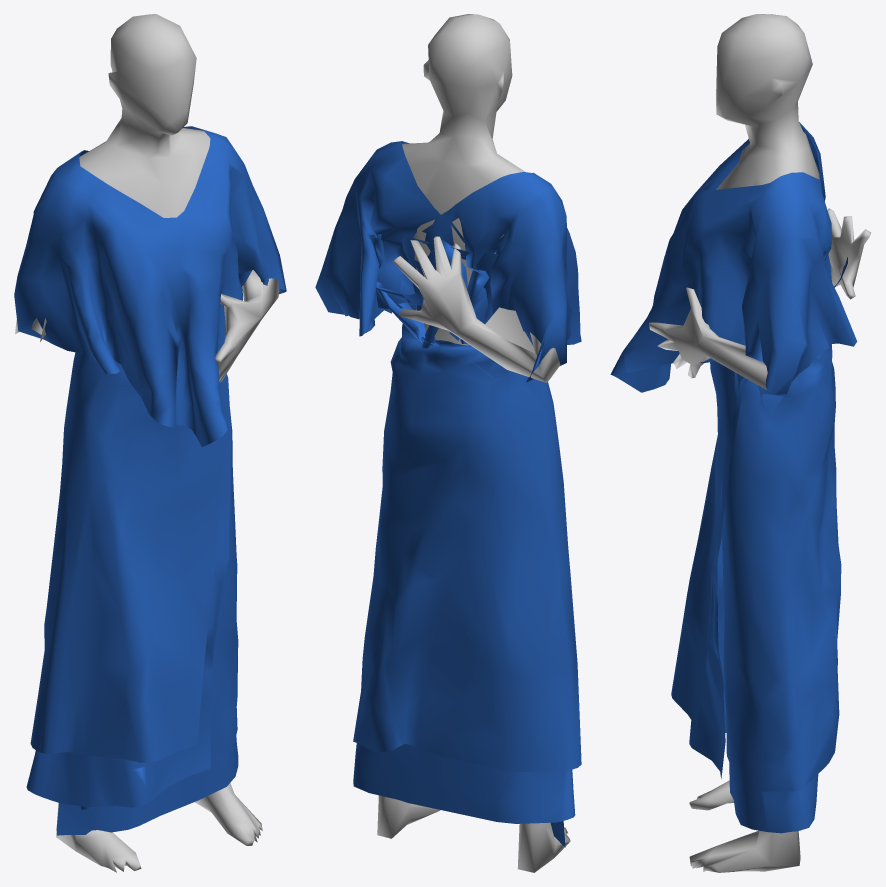
File: personaA2.obj
3 renders of one model, left to right at view 1: azimuth 30°, elevation 25°; view 2: azimuth 150°, elevation 25°; view 3: azimuth 270°, elevation 25°, orthographic.
Visible parts, largest first — view 1: TrajeTipico, Maniqui; view 2: TrajeTipico, Maniqui; view 3: TrajeTipico, Maniqui.
Boxes of the visible parts, x1,y1,x2,y2 form: TrajeTipico: (14,126,286,835); Maniqui: (15,14,279,872); TrajeTipico: (315,141,581,847); Maniqui: (377,14,570,872); TrajeTipico: (610,122,857,833); Maniqui: (649,14,871,872).
Size of the model in its own units: 59 by 183 by 52.8.
